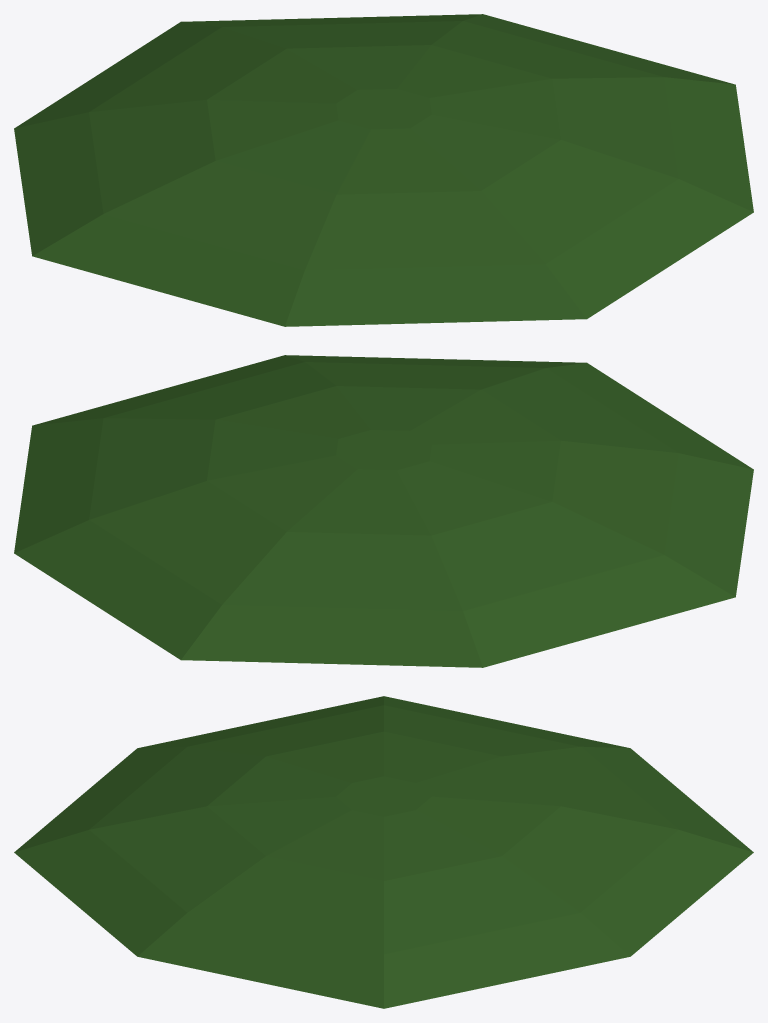
Rendered from Mound.fbx.
3 renders of one model, top to bottom at view 1: azimuth 30°, elevation 25°; view 2: azimuth 150°, elevation 25°; view 3: azimuth 270°, elevation 25°, orthographic. The views are drawn at different scales.
Parts seen in each view (by area): view 1: Mound; view 2: Mound; view 3: Mound.
Part boxes in pixels (<box>): Mound: <box>14,14,753,326</box>; Mound: <box>14,355,753,667</box>; Mound: <box>14,696,753,1008</box>.
Bounding box in the file's own units: 600 × 50 × 600.
